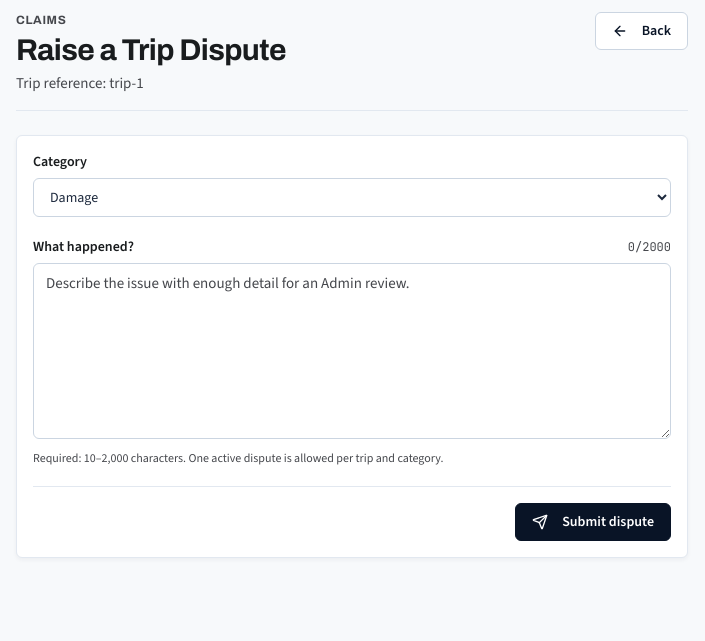
Test case: claimant dispute views › shows the active-duplicate rejection as a claimant-friendly form error
In the text box labelled "What happened?": (352,351) [33,263,671,438], type "The carrier arrived after the agreed pickup window had already closed."
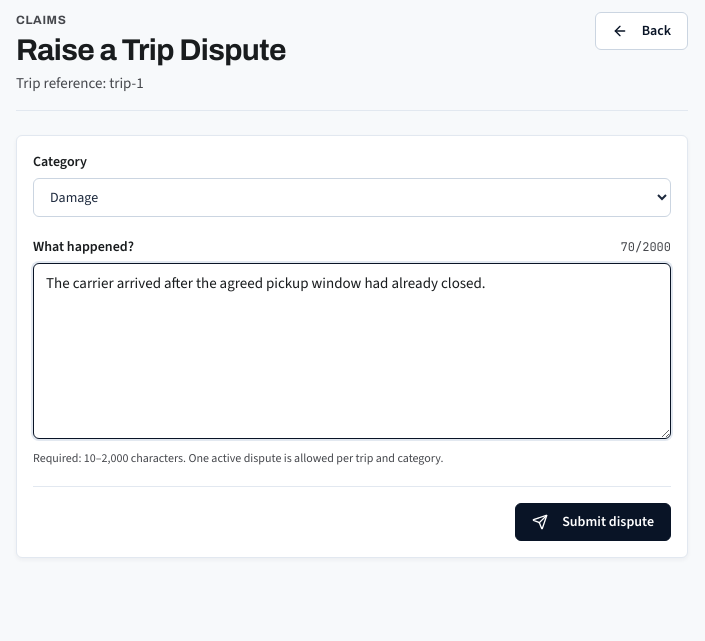
Click the button "Submit dispute": (593,522) [515,502,671,540]
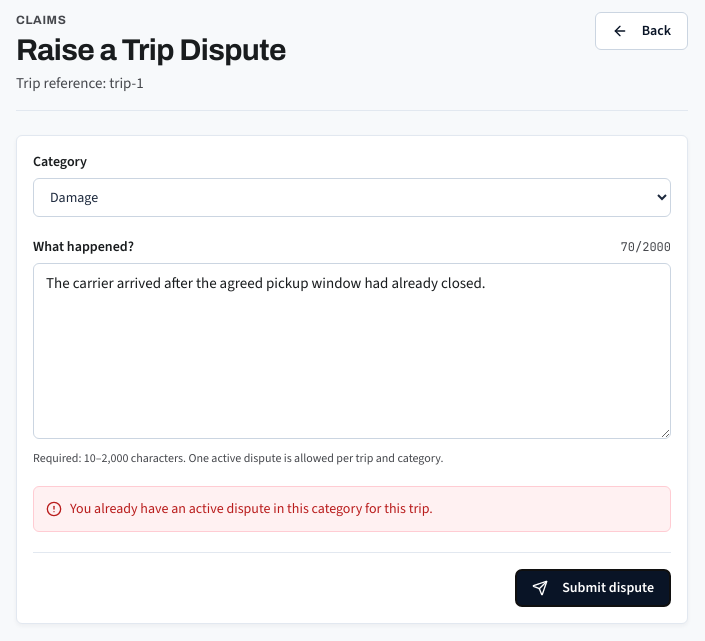
Result: the message reads "You already have an active dispute in this category for this trip." at [70,498,433,518]
